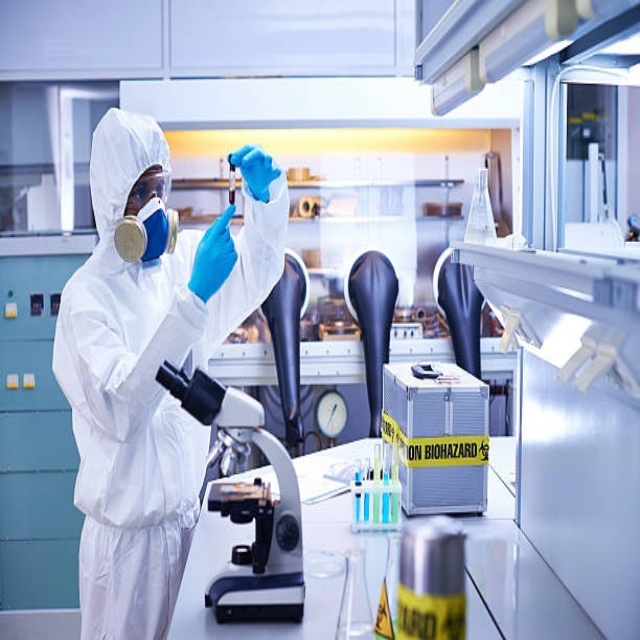Gafas: (127, 167, 172, 207)
Guantes: (189, 203, 240, 305), (228, 143, 283, 203)
Mascara: (110, 193, 181, 268)
